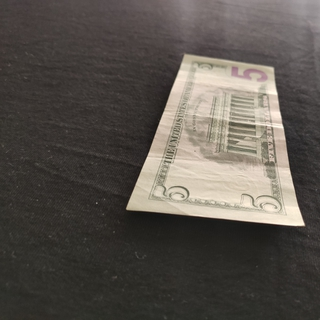5USDBack: (125, 54, 305, 227)
